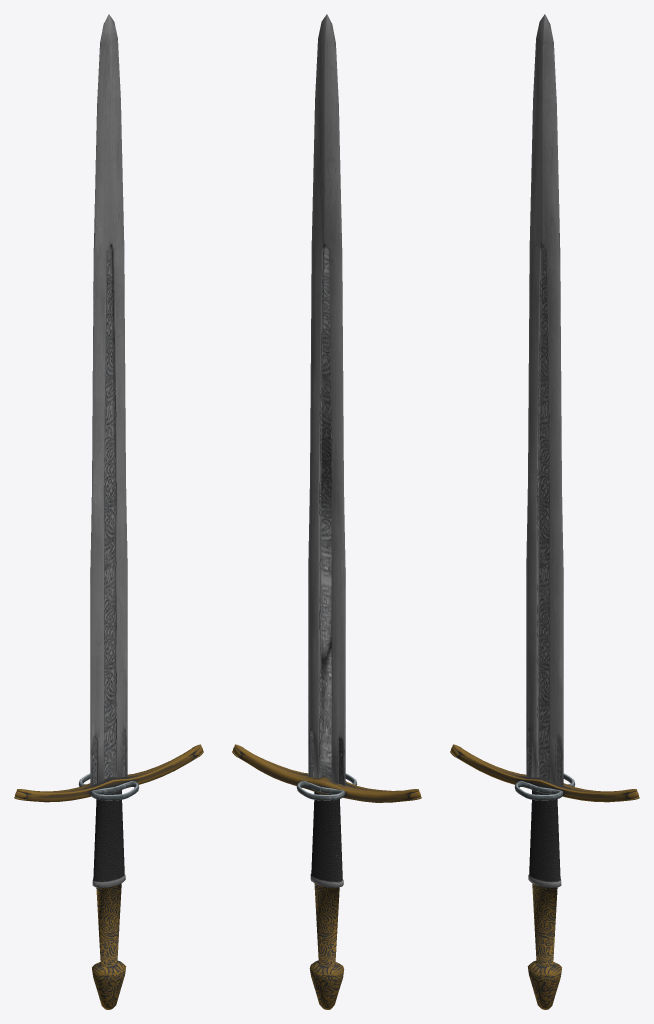
The model's file is sword.glb.
3 renders of one model, left to right at view 1: azimuth 30°, elevation 25°; view 2: azimuth 150°, elevation 25°; view 3: azimuth 330°, elevation 25°, orthographic.
Visible parts, largest first — view 1: t5-sword-part-1, t5-sword-part-2, t5-sword-part-0, t5-sword-part-3; view 2: t5-sword-part-1, t5-sword-part-2, t5-sword-part-0, t5-sword-part-3; view 3: t5-sword-part-1, t5-sword-part-2, t5-sword-part-0, t5-sword-part-3.
Boxes of the visible parts, <box> form: t5-sword-part-1: <box>90,14,127,785</box>; t5-sword-part-2: <box>92,790,126,1009</box>; t5-sword-part-0: <box>14,744,203,802</box>; t5-sword-part-3: <box>78,773,139,800</box>; t5-sword-part-1: <box>308,14,345,785</box>; t5-sword-part-2: <box>309,791,344,1009</box>; t5-sword-part-0: <box>232,744,421,802</box>; t5-sword-part-3: <box>296,773,357,800</box>; t5-sword-part-1: <box>526,14,563,785</box>; t5-sword-part-2: <box>527,790,561,1009</box>; t5-sword-part-0: <box>450,744,639,802</box>; t5-sword-part-3: <box>514,773,575,800</box>.
Size of the model in its own units: 0.285 by 1.43 by 0.0811.
4 materials, 4 textured.
